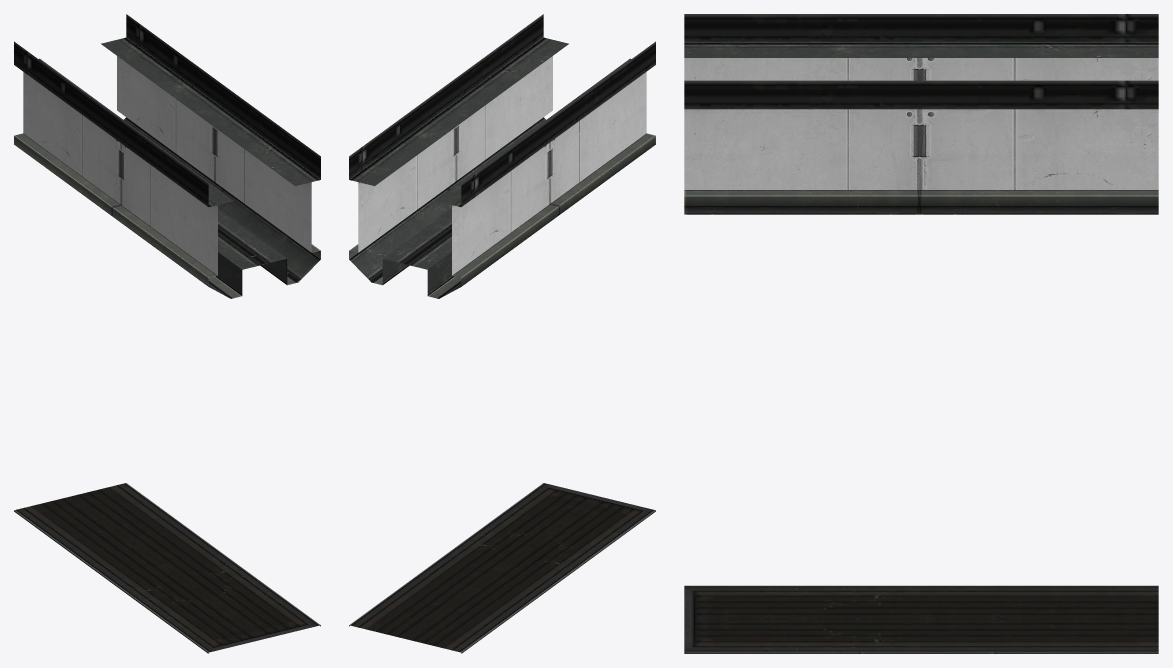
The model's file is Neon_DoorFrameMid.FBX.
3 views of the same model, side by side, from view 1: azimuth 30°, elevation 25°; view 2: azimuth 150°, elevation 25°; view 3: azimuth 270°, elevation 25° (orthographic). The views are drawn at different scales.
Visible parts, largest first — view 1: Neon_DoorFrameMid; view 2: Neon_DoorFrameMid; view 3: Neon_DoorFrameMid.
Part boxes in pixels (<box>): Neon_DoorFrameMid: <box>14,14,320,653</box>; Neon_DoorFrameMid: <box>349,14,655,653</box>; Neon_DoorFrameMid: <box>684,14,1158,653</box>.
Bounding box in the file's own units: 1 × 4 × 3.
